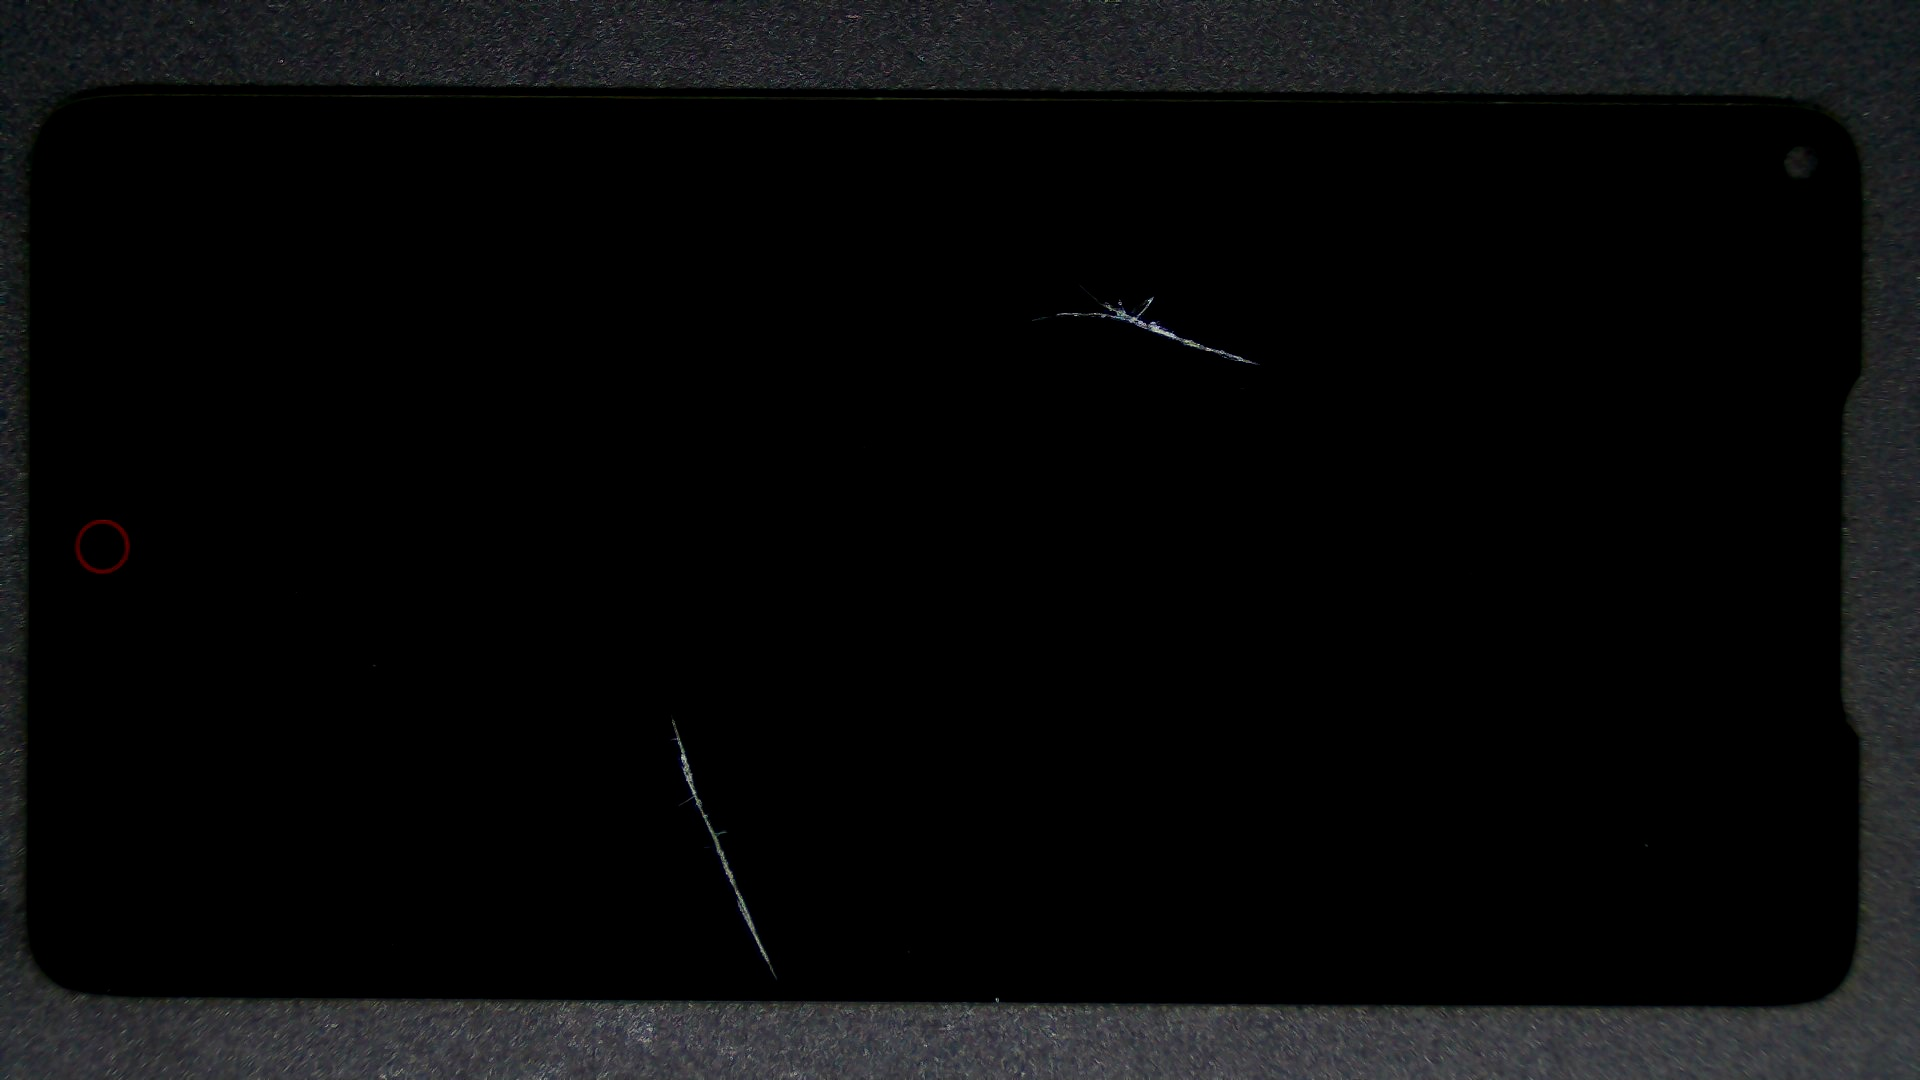oil: (335, 352, 1005, 1073), (539, 138, 1613, 419)
